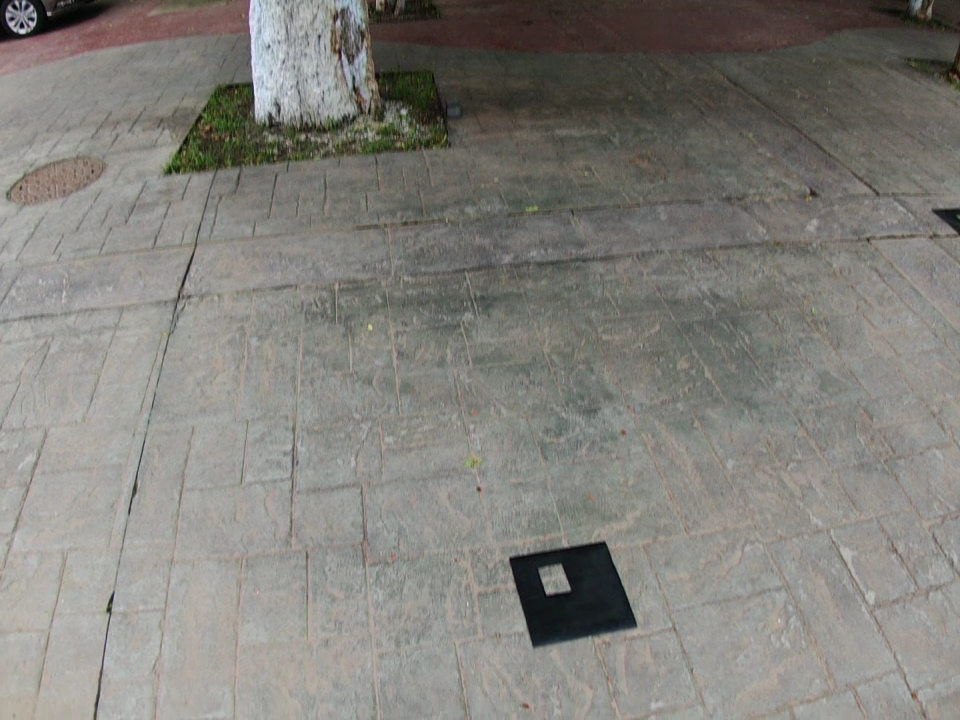qrcode: (508, 541, 637, 647)
